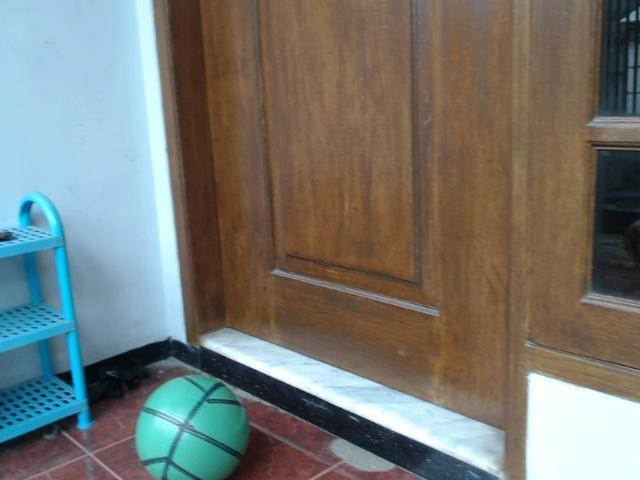Sports-Ball: (135, 366, 255, 480)
